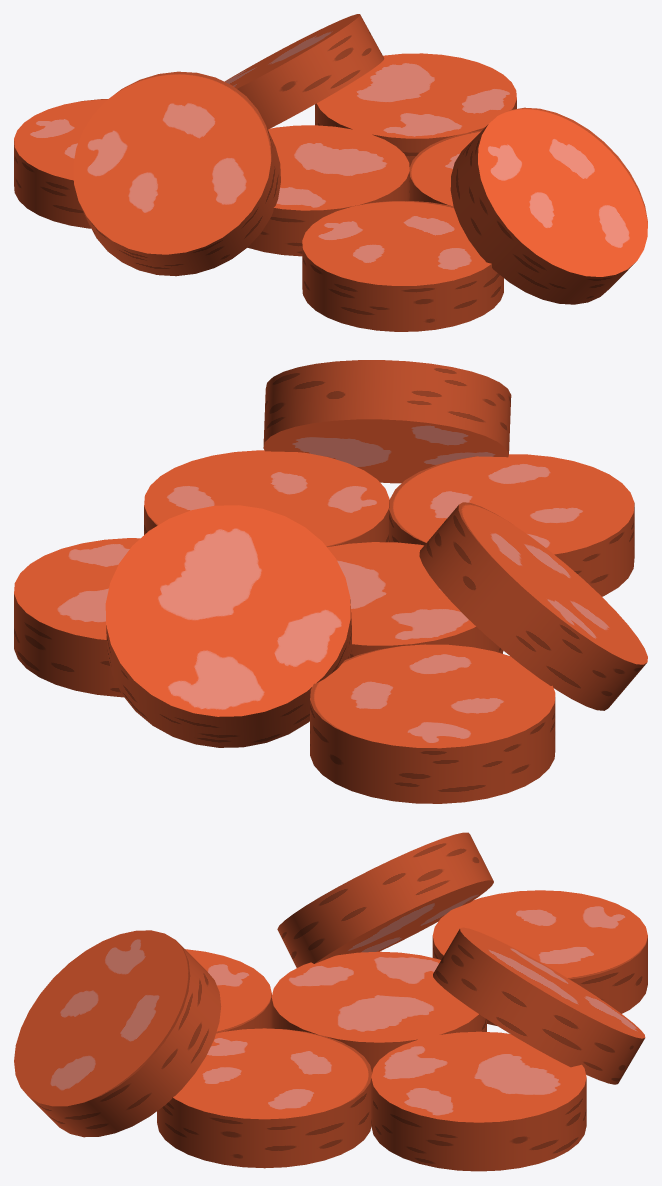
Rendered from CalabresaCortada.fbx.
The picture shows the model from 3 angles, top to bottom: view 1: azimuth 30°, elevation 25°; view 2: azimuth 150°, elevation 25°; view 3: azimuth 270°, elevation 25°; orthographic projection. The views are drawn at different scales.
Parts seen in each view (by area): view 1: Cilindro.004, Cilindro.007, Cilindro.006, Cilindro.002, Cilindro, Cilindro.001, Cilindro.003, Cilindro.005; view 2: Cilindro.001, Cilindro.003, Cilindro.004, Cilindro.007, Cilindro.006, Cilindro.005, Cilindro.002, Cilindro; view 3: Cilindro.007, Cilindro.002, Cilindro.005, Cilindro.001, Cilindro, Cilindro.004, Cilindro.003, Cilindro.006.
Part boxes in pixels (x1,y1,x2,y2): Cilindro.004: [73, 71, 280, 276]; Cilindro.007: [450, 107, 647, 304]; Cilindro.006: [302, 201, 503, 331]; Cilindro.002: [315, 53, 516, 167]; Cilindro: [247, 125, 409, 256]; Cilindro.001: [224, 14, 384, 129]; Cilindro.003: [14, 99, 107, 228]; Cilindro.005: [409, 130, 481, 206]; Cilindro.001: [105, 505, 351, 747]; Cilindro.003: [310, 644, 555, 803]; Cilindro.004: [419, 502, 647, 710]; Cilindro.007: [263, 360, 511, 483]; Cilindro.006: [389, 454, 634, 596]; Cilindro.005: [144, 450, 389, 547]; Cilindro.002: [14, 538, 140, 697]; Cilindro: [327, 542, 503, 657]; Cilindro.007: [14, 930, 221, 1137]; Cilindro.002: [371, 1031, 586, 1171]; Cilindro.005: [157, 1028, 371, 1168]; Cilindro.001: [433, 927, 645, 1084]; Cilindro: [271, 951, 486, 1072]; Cilindro.004: [277, 832, 493, 967]; Cilindro.003: [432, 890, 647, 1025]; Cilindro.006: [185, 949, 271, 1033].
Bounding box in the file's own units: 52.23 × 16.94 × 58.89.
